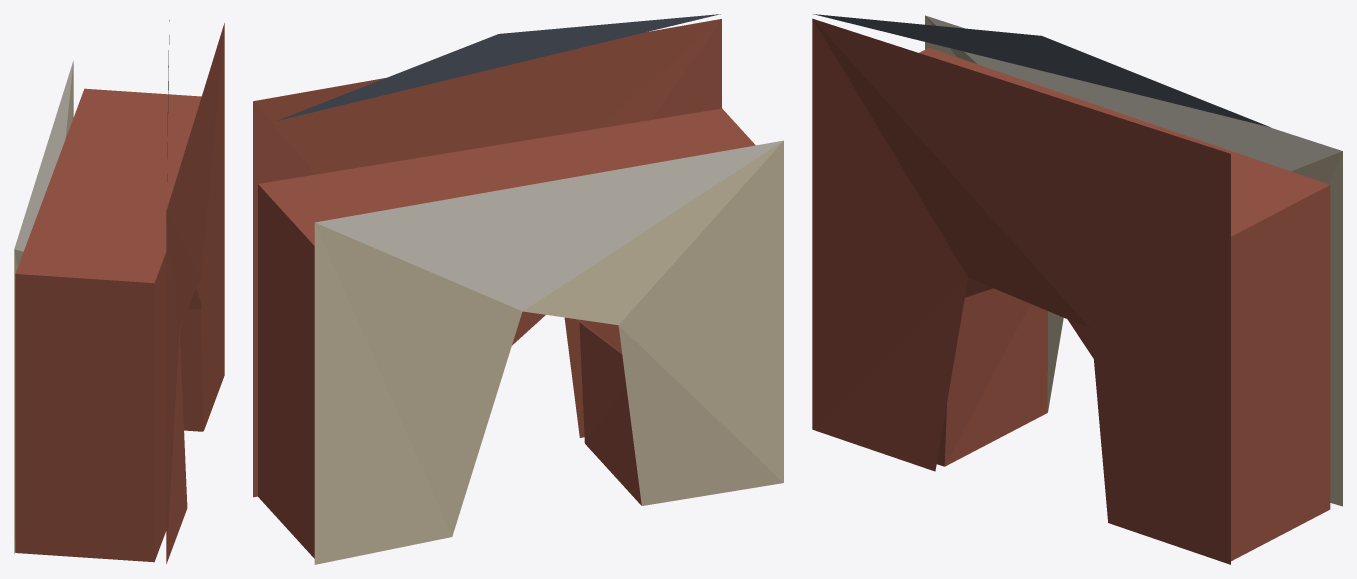
File: herepoort-bergpoort.lod2.glb
The picture shows the model from 3 angles, left to right: view 1: azimuth 30°, elevation 25°; view 2: azimuth 150°, elevation 25°; view 3: azimuth 270°, elevation 25°; orthographic projection. The views are drawn at different scales.
Visible parts, largest first — view 1: lod2; view 2: lod2; view 3: lod2.
Part boxes in pixels (x1=…): lod2: x1=14, y1=19, x2=224, y2=563; lod2: x1=253, y1=14, x2=783, y2=564; lod2: x1=812, y1=14, x2=1342, y2=564.
Bounding box in the file's own units: 7.85 × 8.5 × 9.07.
